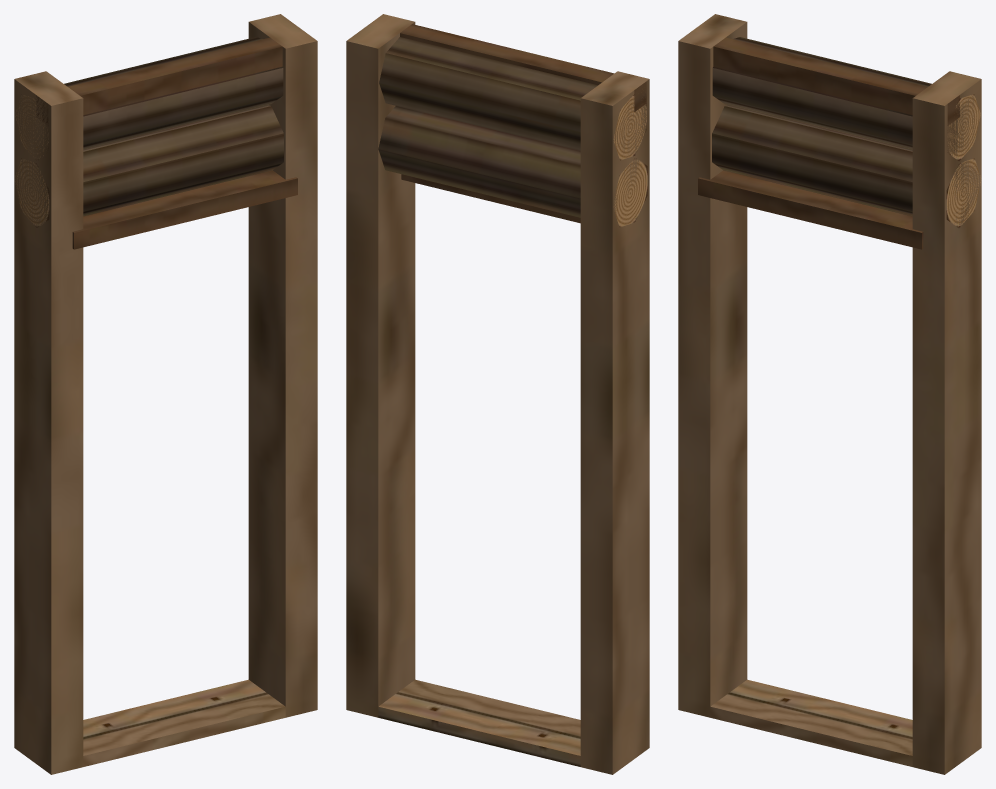
File: wall_doorway.glb
3 renders of one model, left to right at view 1: azimuth 30°, elevation 25°; view 2: azimuth 150°, elevation 25°; view 3: azimuth 330°, elevation 25°, orthographic.
Visible parts, largest first — view 1: wall_doorway; view 2: wall_doorway; view 3: wall_doorway.
Boxes of the visible parts, bbox=[...] form: wall_doorway: bbox=[14, 14, 317, 774]; wall_doorway: bbox=[346, 14, 649, 774]; wall_doorway: bbox=[678, 14, 981, 774].
Bounding box in the file's own units: 1 × 2.4 × 0.25.
1 material, 1 textured.
